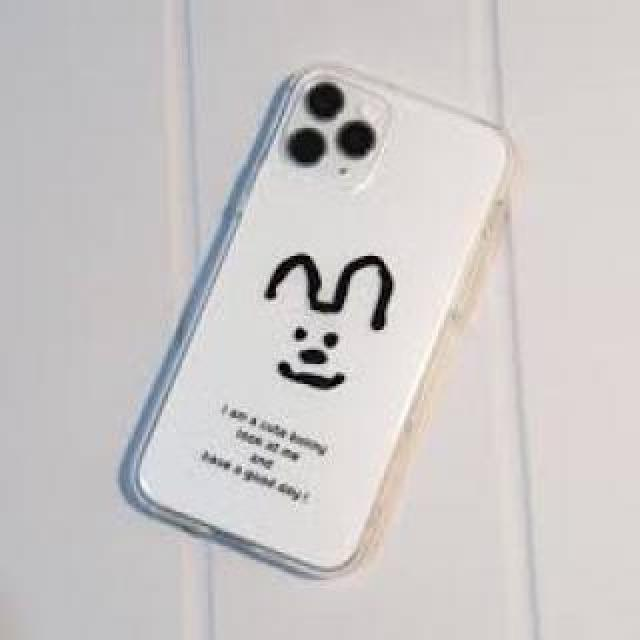smart phone: (133, 63, 540, 580)
